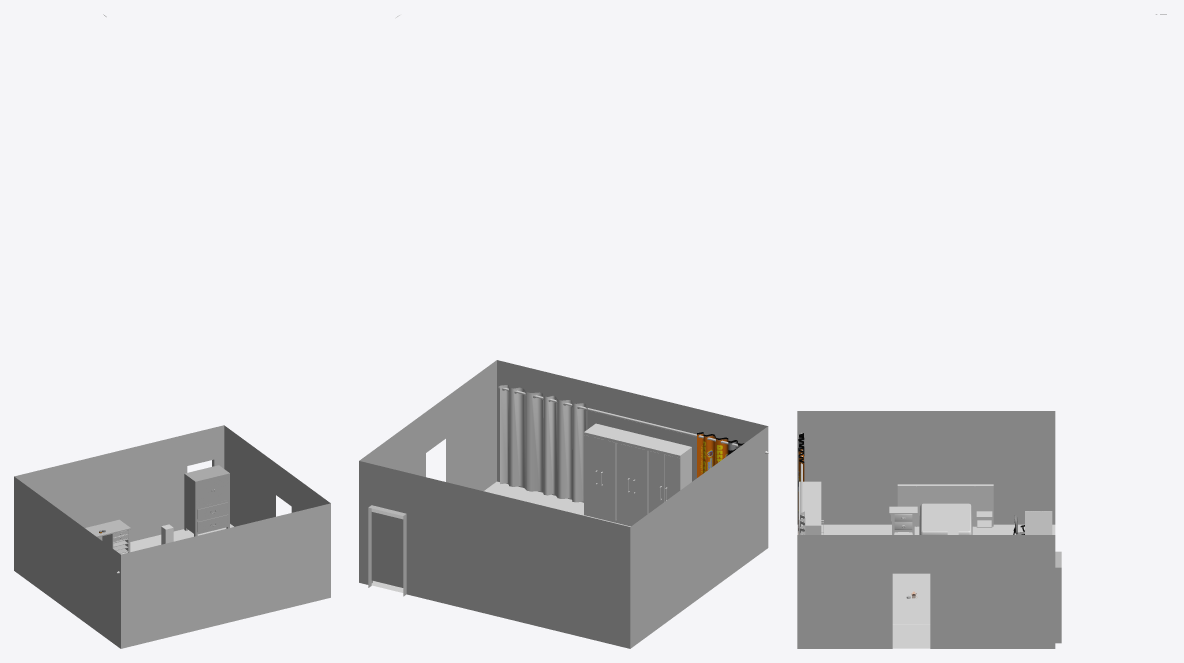
File: comida chinesa.fbx
The picture shows the model from 3 angles, left to right: view 1: azimuth 30°, elevation 25°; view 2: azimuth 150°, elevation 25°; view 3: azimuth 270°, elevation 25°; orthographic projection. The views are drawn at different scales.
Visible parts, largest first — view 1: quarto01_paredes, Armario_Low, mesa, quarto01_chao.002; view 2: quarto01_paredes, cortina 2, guardaroupa.001, Armario_Low, guardaroupa, quarto01_chao.002, cortina 1, suporte; view 3: quarto01_paredes, cabeceira, quarto01_chao.002, tapete, colchão, guardaroupa, mesa.
Part boxes in pixels (box(x1,y1,x2,y2)): quarto01_paredes: box(14, 425, 330, 648); Armario_Low: box(184, 465, 229, 536); mesa: box(85, 519, 130, 553); quarto01_chao.002: box(120, 524, 233, 554); quarto01_paredes: box(359, 360, 768, 648); cortina 2: box(500, 385, 587, 502); guardaroupa.001: box(584, 435, 681, 524); Armario_Low: box(371, 508, 403, 587); guardaroupa: box(584, 423, 691, 526); quarto01_chao.002: box(371, 481, 630, 592); cortina 1: box(697, 432, 744, 477); suporte: box(498, 386, 768, 454); quarto01_paredes: box(797, 411, 1061, 648); cabeceira: box(897, 484, 993, 527); quarto01_chao.002: box(797, 524, 1055, 648); tapete: box(892, 573, 930, 624); colchão: box(920, 503, 971, 534); guardaroupa: box(799, 481, 821, 534); mesa: box(1025, 511, 1052, 534).
Size of the model in its own units: 796 by 1756 by 1001.
